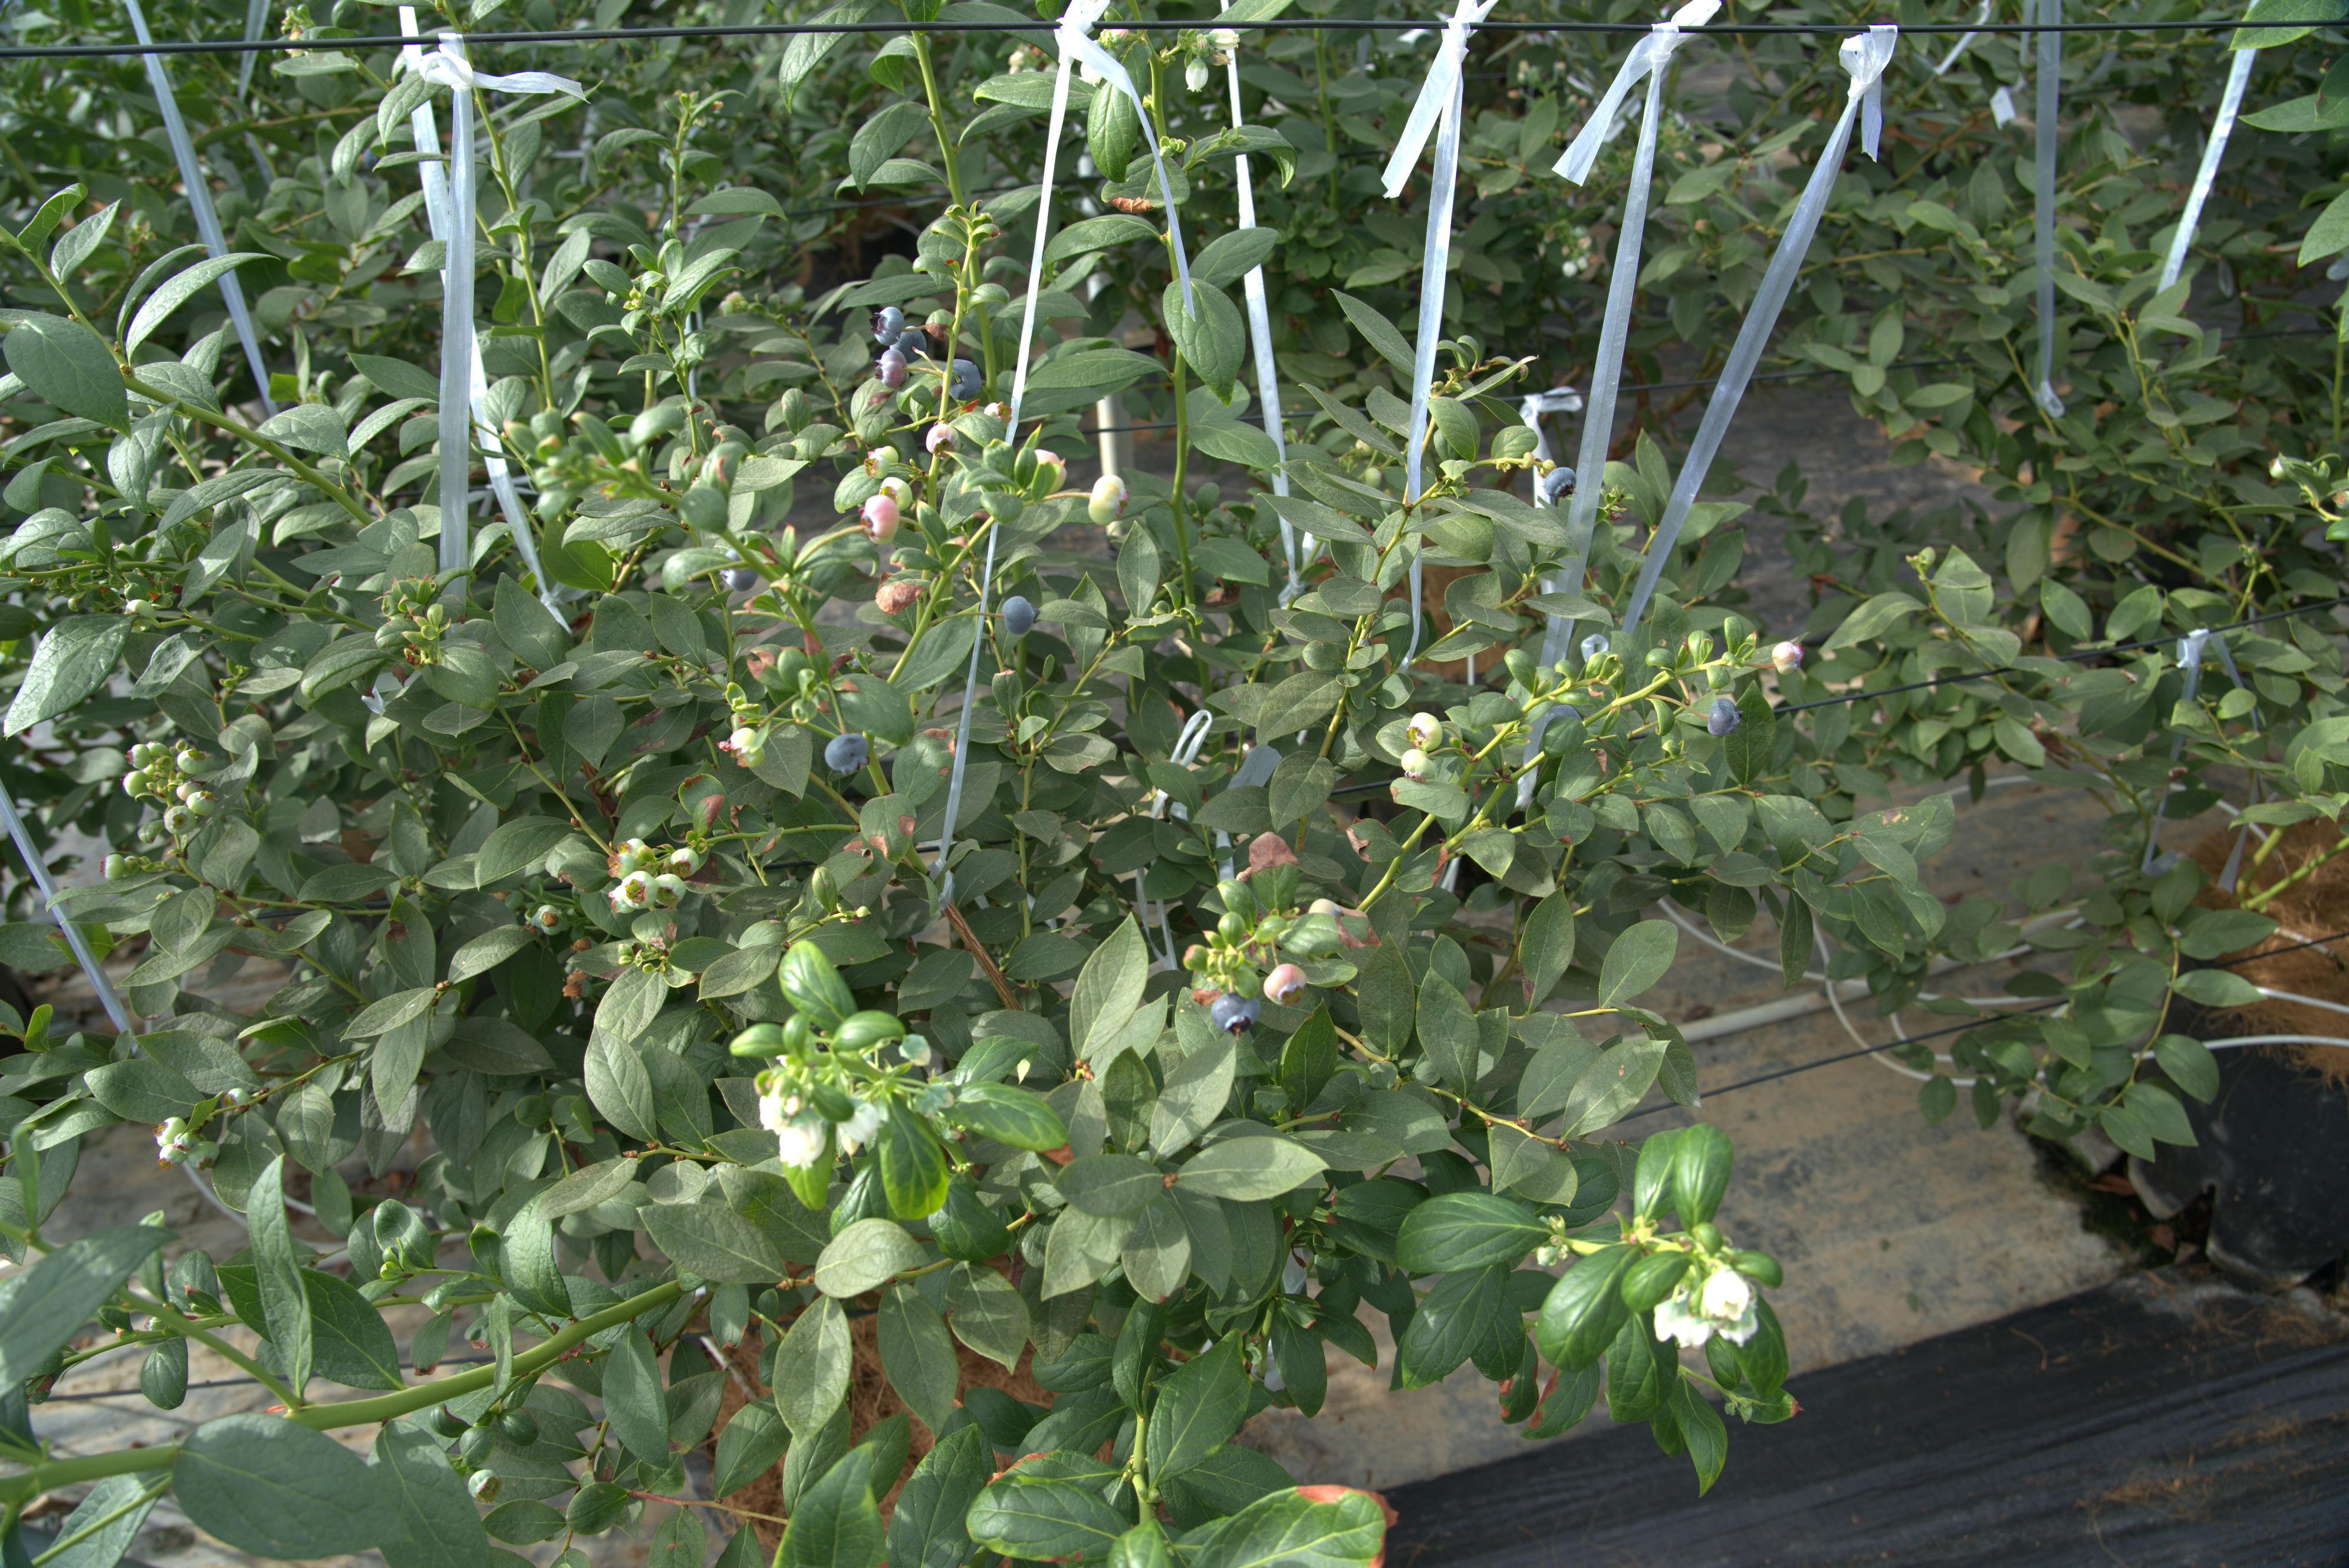ripe-blueberries: (823, 733, 872, 773), (1215, 992, 1260, 1034), (1708, 693, 1742, 742), (945, 360, 984, 402), (723, 549, 758, 593), (1542, 464, 1581, 502), (868, 304, 905, 345), (875, 350, 910, 392), (999, 598, 1038, 635), (893, 325, 928, 360)
semi-ripe-blueberries: (1090, 472, 1129, 525), (861, 497, 903, 544), (1407, 712, 1444, 751), (621, 871, 658, 910), (1771, 637, 1805, 677), (928, 423, 961, 458), (882, 478, 914, 511), (1400, 749, 1435, 779), (175, 747, 212, 775), (655, 875, 686, 906), (670, 849, 700, 877), (165, 808, 196, 835), (187, 789, 219, 814), (124, 768, 151, 796), (607, 852, 634, 878), (124, 744, 151, 768), (620, 838, 644, 863), (177, 780, 201, 801), (145, 740, 168, 761)
